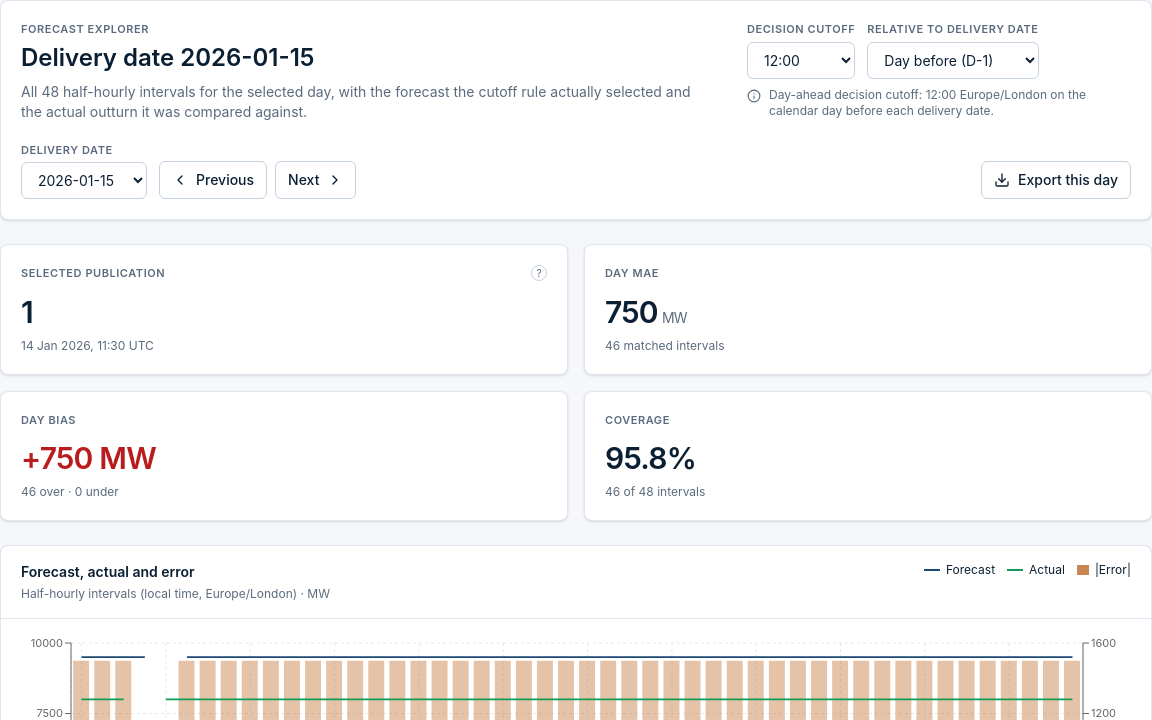
Test: Forecast Explorer › disables navigation at the edges of the evaluation period
The image size is (1152, 720).
Expected: the button "Previous" is enabled, [159,161,267,199]
Expected: the button "Next" is enabled, [275,161,356,199]
Step 1. Select "2026-01-31" in the dropdown labelled "Delivery date" → (84, 180), box [21,162,147,199]
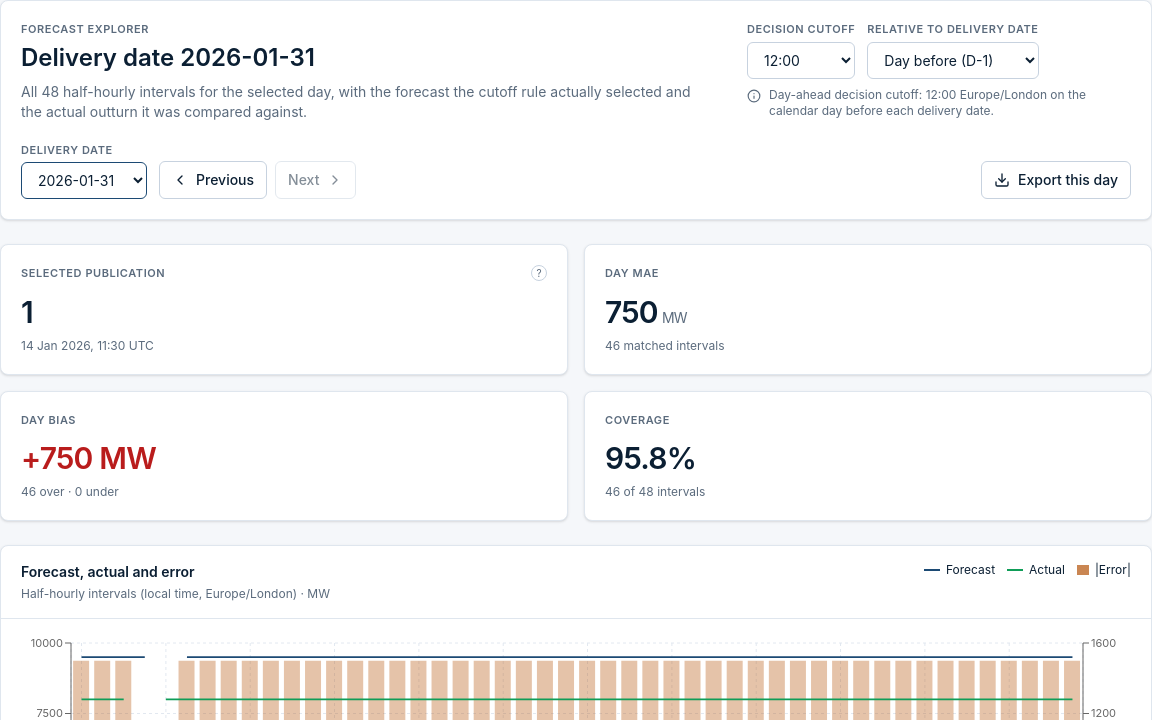
Expected: the button "Next" is disabled, [275,161,356,199]
